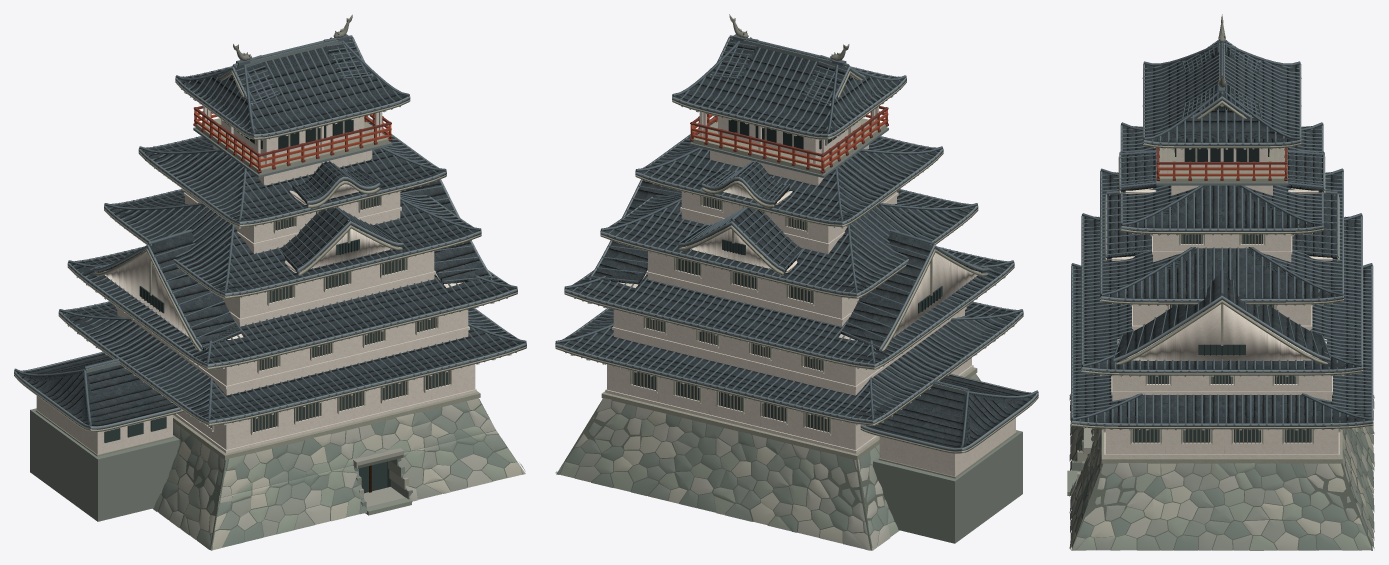
The model's file is karatsu-castle.glb.
3 views of the same model, side by side, from view 1: azimuth 30°, elevation 25°; view 2: azimuth 150°, elevation 25°; view 3: azimuth 270°, elevation 25° (orthographic).
Visible parts, largest first — view 1: 唐津城 · Slate 344044, 唐津城 · Finish 56646a, 唐津城 · Finish ffffff, 唐津城 · Plaster eeeae0, 唐津城 · Plaster d1d1c8, 唐津城 · Finish 738084, 唐津城 · Plaster fffaf0, 唐津城 · Finish 818a80, 唐津城 · Finish 62695e, 唐津城 · Finish 354543, 唐津城 · Finish 827f72, 唐津城 · Finish a44c35 (+5 smaller); view 2: 唐津城 · Slate 344044, 唐津城 · Finish 56646a, 唐津城 · Finish ffffff, 唐津城 · Plaster eeeae0, 唐津城 · Plaster d1d1c8, 唐津城 · Finish 738084, 唐津城 · Plaster fffaf0, 唐津城 · Finish 818a80, 唐津城 · Finish 62695e, 唐津城 · Finish 354543, 唐津城 · Finish 827f72, 唐津城 · Finish a44c35 (+3 smaller); view 3: 唐津城 · Slate 344044, 唐津城 · Finish 56646a, 唐津城 · Finish ffffff, 唐津城 · Plaster eeeae0, 唐津城 · Plaster fffaf0, 唐津城 · Finish 738084, 唐津城 · Plaster d1d1c8, 唐津城 · Finish 62695e, 唐津城 · Finish 354543, 唐津城 · Finish 827f72, 唐津城 · Finish a44c35, 唐津城 · Finish 242e2e (+2 smaller).
Boxes of the visible parts, left/top/right/bottom form: 唐津城 · Slate 344044: left=16, top=38, right=523, bottom=426; 唐津城 · Finish 56646a: left=14, top=34, right=526, bottom=426; 唐津城 · Finish ffffff: left=153, top=398, right=525, bottom=550; 唐津城 · Plaster eeeae0: left=36, top=145, right=475, bottom=454; 唐津城 · Plaster d1d1c8: left=14, top=38, right=526, bottom=459; 唐津城 · Finish 738084: left=14, top=37, right=526, bottom=429; 唐津城 · Plaster fffaf0: left=101, top=107, right=476, bottom=453; 唐津城 · Finish 818a80: left=30, top=408, right=412, bottom=521; 唐津城 · Finish 62695e: left=157, top=399, right=522, bottom=550; 唐津城 · Finish 354543: left=104, top=196, right=449, bottom=492; 唐津城 · Finish 827f72: left=206, top=196, right=449, bottom=432; 唐津城 · Finish a44c35: left=194, top=110, right=391, bottom=170; 唐津城 · Slate 344044: left=558, top=38, right=1035, bottom=447; 唐津城 · Finish 56646a: left=555, top=34, right=1038, bottom=447; 唐津城 · Finish ffffff: left=555, top=373, right=979, bottom=550; 唐津城 · Plaster eeeae0: left=607, top=145, right=1015, bottom=476; 唐津城 · Plaster d1d1c8: left=555, top=38, right=1038, bottom=478; 唐津城 · Finish 738084: left=555, top=37, right=1038, bottom=451; 唐津城 · Plaster fffaf0: left=605, top=106, right=980, bottom=453; 唐津城 · Finish 818a80: left=873, top=430, right=1022, bottom=543; 唐津城 · Finish 62695e: left=560, top=376, right=980, bottom=550; 唐津城 · Finish 354543: left=632, top=197, right=942, bottom=432; 唐津城 · Finish 827f72: left=633, top=196, right=827, bottom=432; 唐津城 · Finish a44c35: left=690, top=110, right=888, bottom=170; 唐津城 · Slate 344044: left=1073, top=41, right=1370, bottom=423; 唐津城 · Finish 56646a: left=1071, top=40, right=1372, bottom=426; 唐津城 · Finish ffffff: left=1069, top=394, right=1374, bottom=550; 唐津城 · Plaster eeeae0: left=1105, top=185, right=1338, bottom=457; 唐津城 · Plaster fffaf0: left=1103, top=105, right=1340, bottom=457; 唐津城 · Finish 738084: left=1071, top=40, right=1373, bottom=426; 唐津城 · Plaster d1d1c8: left=1071, top=100, right=1373, bottom=463; 唐津城 · Finish 62695e: left=1071, top=427, right=1372, bottom=550; 唐津城 · Finish 354543: left=1132, top=105, right=1311, bottom=442; 唐津城 · Finish 827f72: left=1133, top=234, right=1310, bottom=443; 唐津城 · Finish a44c35: left=1157, top=164, right=1287, bottom=178; 唐津城 · Finish 242e2e: left=1175, top=105, right=1269, bottom=355.
Bounding box in the file's own units: 28.15 × 30 × 19.35.
Materials: 24 (5 with a texture image).
